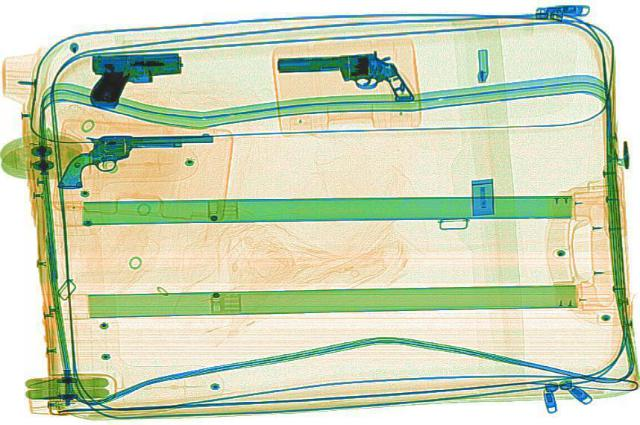Gun: (54, 134, 216, 187), (273, 49, 413, 106), (86, 51, 186, 108)
